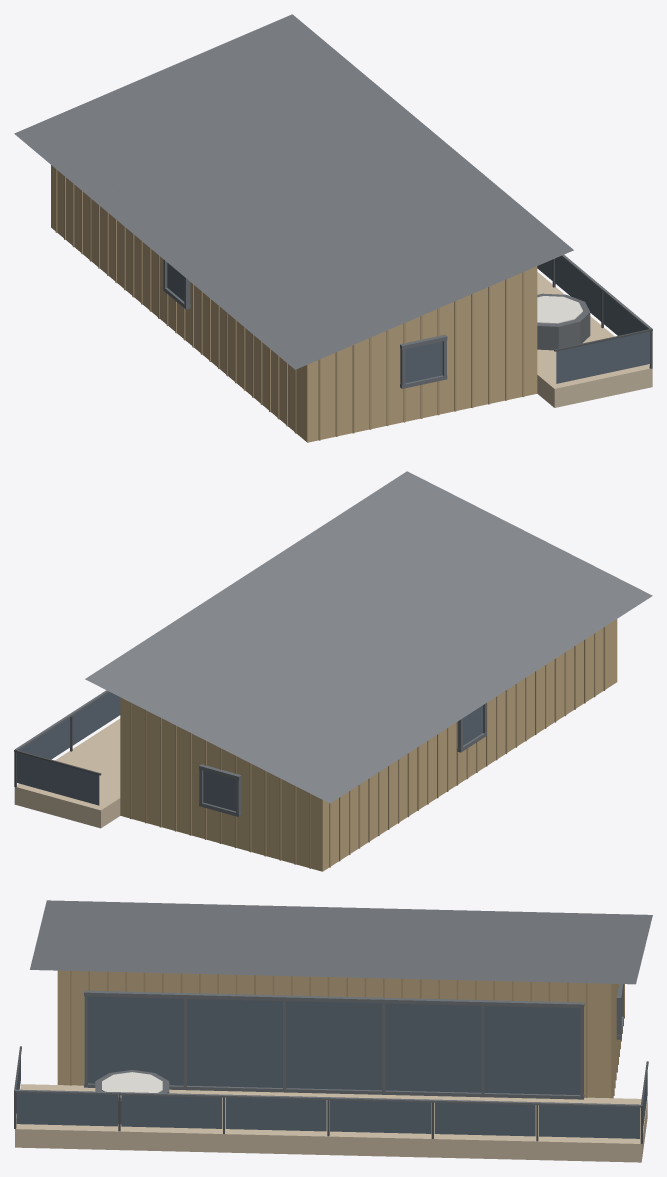
3 renders of one model, top to bottom at view 1: azimuth 30°, elevation 25°; view 2: azimuth 150°, elevation 25°; view 3: azimuth 270°, elevation 25°, orthographic. The views are drawn at different scales.
Visible parts, largest first — view 1: slate, door_wood, door_wood_p, larch, window_glass_007, slate_dk, band_dark, window_glass_002, window_glass_014, string, window_glass_001, pipe; view 2: slate, door_wood, door_wood_p, larch, window_glass_008, slate_dk, window_glass_005, window_glass_006, window_glass_015; view 3: slate, larch, door_wood, slate_dk, window_glass_012, window_glass_013, window_glass_011, window_glass_010, window_glass_009, window_glass_001, window_glass_002, window_glass_003 (+7 smaller).
Boxes of the visible parts, left/top/right/bottom form: slate: left=14, top=14, right=573, bottom=369; door_wood: left=51, top=165, right=537, bottom=442; door_wood_p: left=55, top=169, right=524, bottom=440; larch: left=537, top=272, right=652, bottom=407; window_glass_007: left=556, top=331, right=650, bottom=383; slate_dk: left=163, top=255, right=652, bottom=388; band_dark: left=537, top=293, right=590, bottom=350; window_glass_002: left=555, top=256, right=601, bottom=321; window_glass_014: left=405, top=341, right=442, bottom=382; string: left=537, top=296, right=582, bottom=323; window_glass_001: left=603, top=292, right=647, bottom=335; pipe: left=552, top=258, right=652, bottom=368; slate: left=85, top=471, right=652, bottom=803; door_wood: left=120, top=619, right=617, bottom=871; door_wood_p: left=130, top=627, right=605, bottom=868; larch: left=14, top=718, right=120, bottom=828; window_glass_008: left=16, top=752, right=99, bottom=805; slate_dk: left=14, top=690, right=486, bottom=816; window_glass_005: left=72, top=692, right=120, bottom=745; window_glass_006: left=19, top=718, right=70, bottom=759; window_glass_015: left=203, top=770, right=235, bottom=811; slate: left=30, top=900, right=652, bottom=984; larch: left=15, top=1084, right=647, bottom=1162; door_wood: left=58, top=970, right=611, bottom=1098; slate_dk: left=15, top=984, right=641, bottom=1107; window_glass_012: left=385, top=1003, right=481, bottom=1092; window_glass_013: left=484, top=1006, right=580, bottom=1094; window_glass_011: left=286, top=1001, right=381, bottom=1090; window_glass_010: left=187, top=999, right=282, bottom=1087; window_glass_009: left=88, top=996, right=183, bottom=1085; window_glass_001: left=16, top=1092, right=117, bottom=1126; window_glass_002: left=121, top=1095, right=222, bottom=1128; window_glass_003: left=225, top=1097, right=326, bottom=1131.
Bounding box in the file's own units: 10.19 × 3.88 × 15.59.
